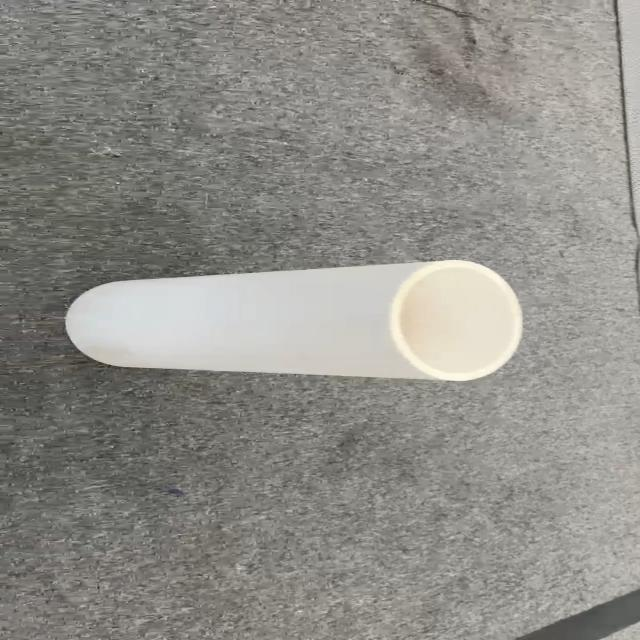coral: (63, 258, 525, 382)
